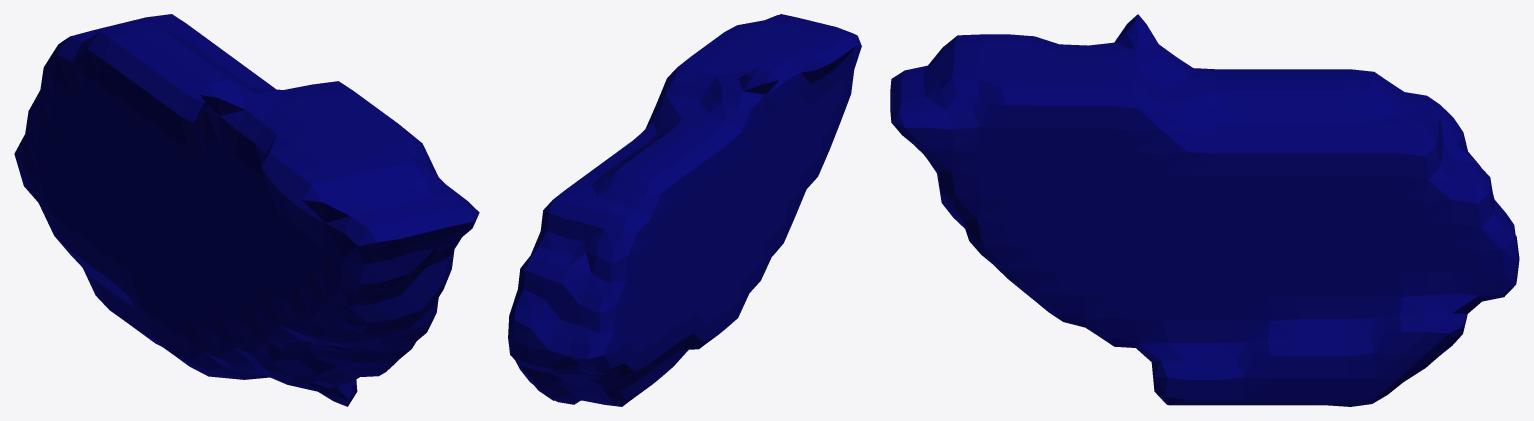
File: aseg_251_CC_Posterior.glb
The picture shows the model from 3 angles, left to right: view 1: azimuth 30°, elevation 25°; view 2: azimuth 150°, elevation 25°; view 3: azimuth 270°, elevation 25°; orthographic projection. The views are drawn at different scales.
Bounding box in the file's own units: 6.83 × 13.7 × 23.83.
